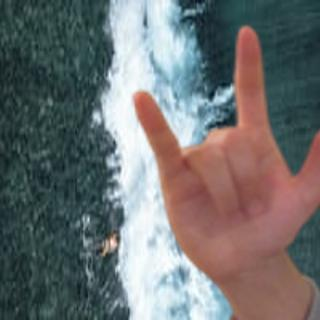ILY: (125, 17, 320, 279)
